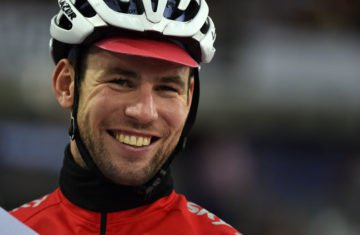helmet: (49, 1, 217, 187)
